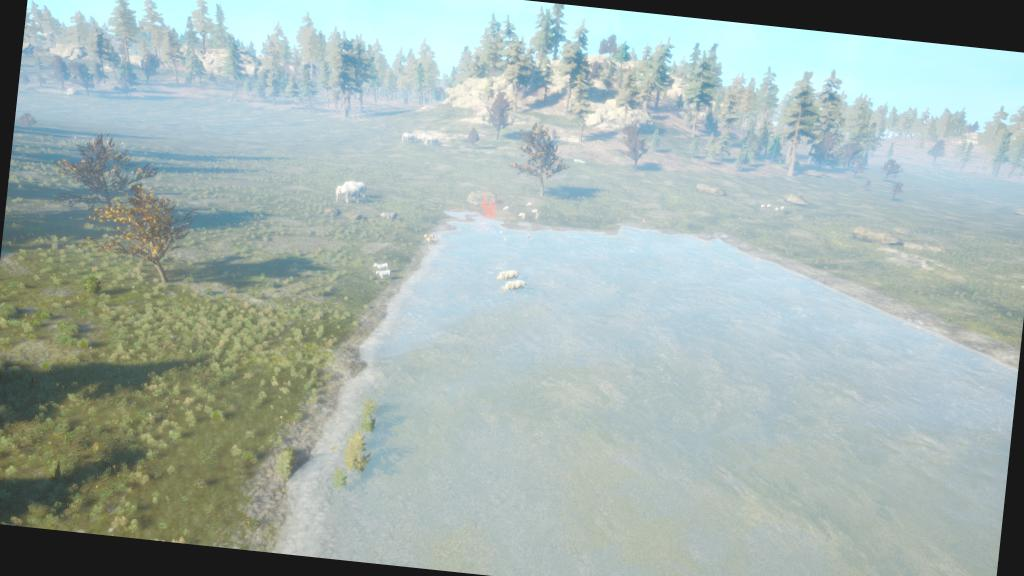Fire: (478, 202, 498, 224)
elephant: (326, 168, 392, 214)
lion: (414, 215, 450, 253)
pig: (508, 196, 554, 234)
rhinoceros: (494, 256, 526, 285), (497, 278, 535, 302)
zebra: (370, 263, 400, 287)
